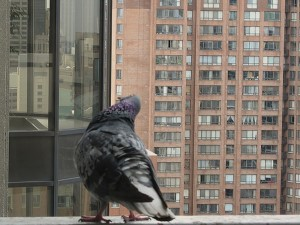pigeon: (70, 92, 177, 225)
